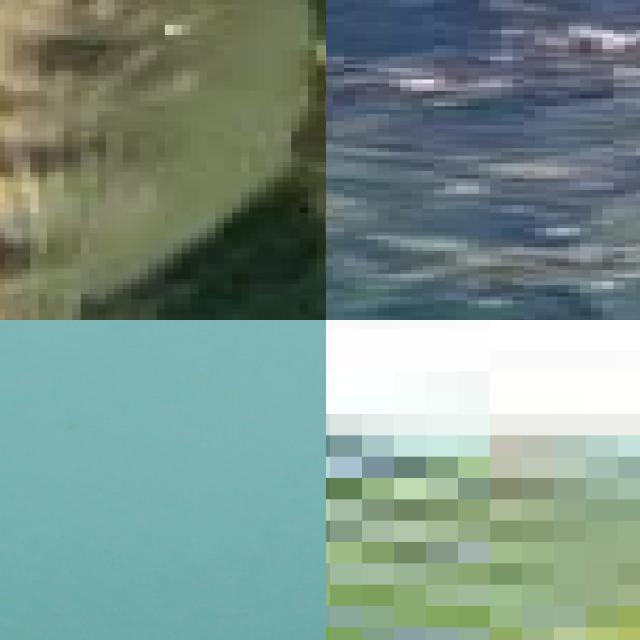fish: (0, 0, 326, 320), (326, 320, 640, 640)
